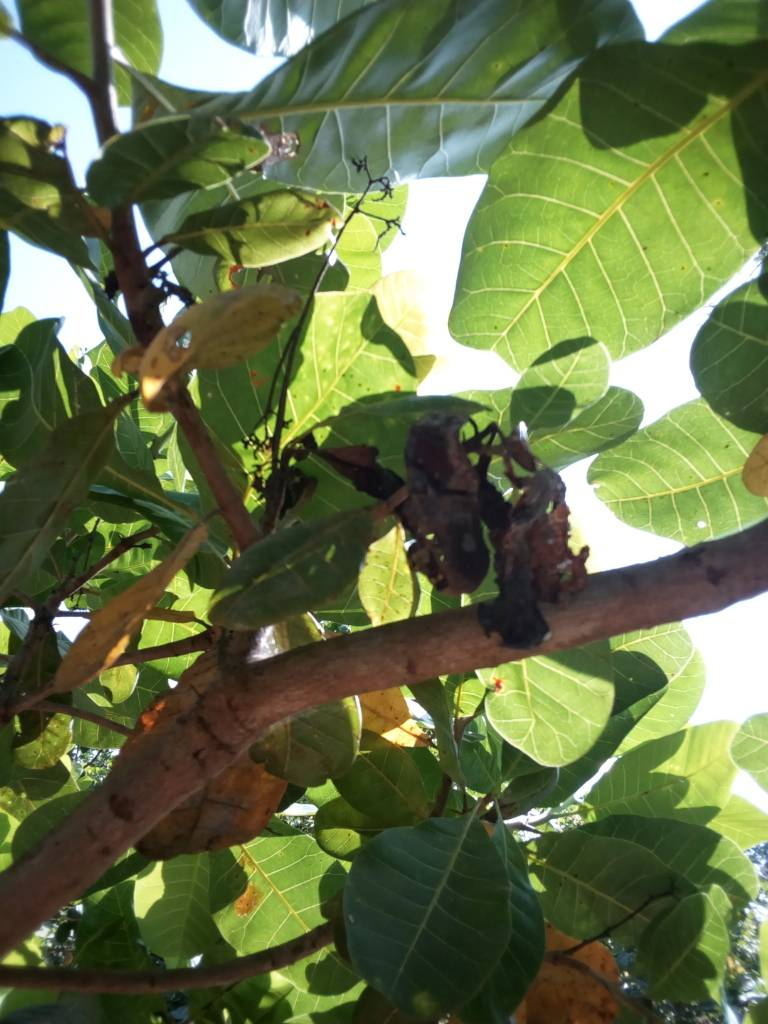Dessèchement des bourgeons: (407, 414, 590, 642), (255, 436, 399, 511)
